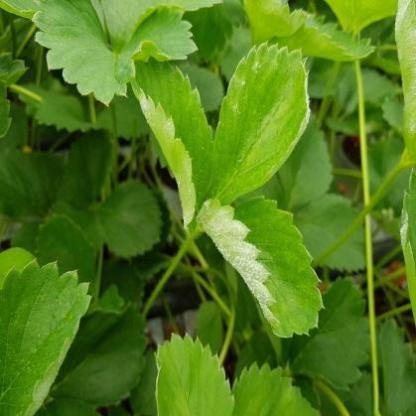Strawberry_Powdery_Mildew_Leaf: (198, 196, 324, 338), (205, 41, 312, 206), (129, 54, 214, 237), (399, 168, 415, 318)
